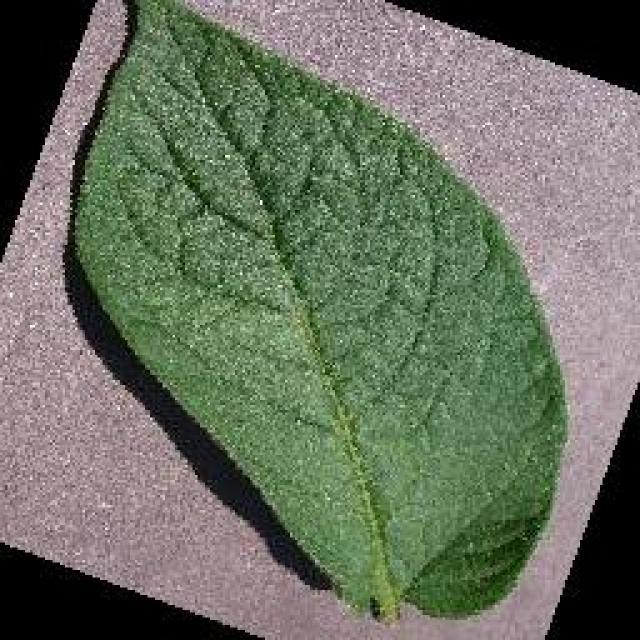Potato___healthy: (67, 0, 571, 633)
